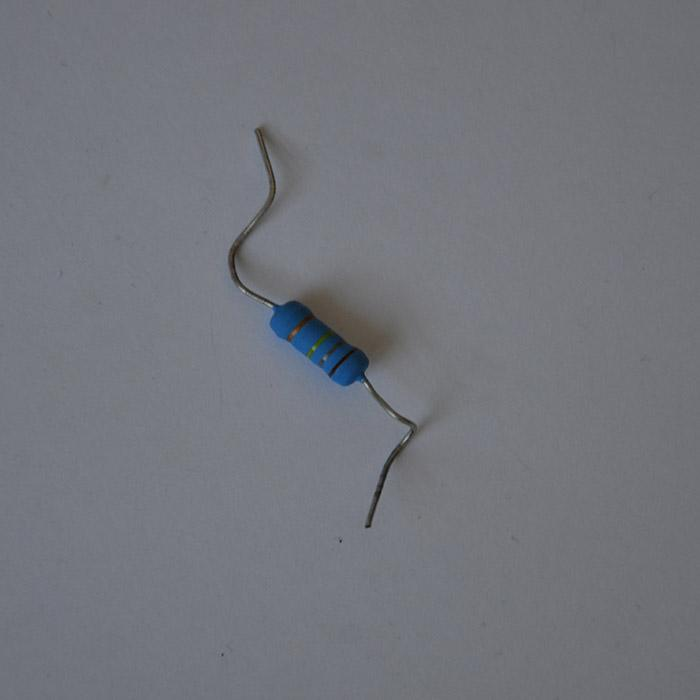resistor: (266, 298, 368, 388)
